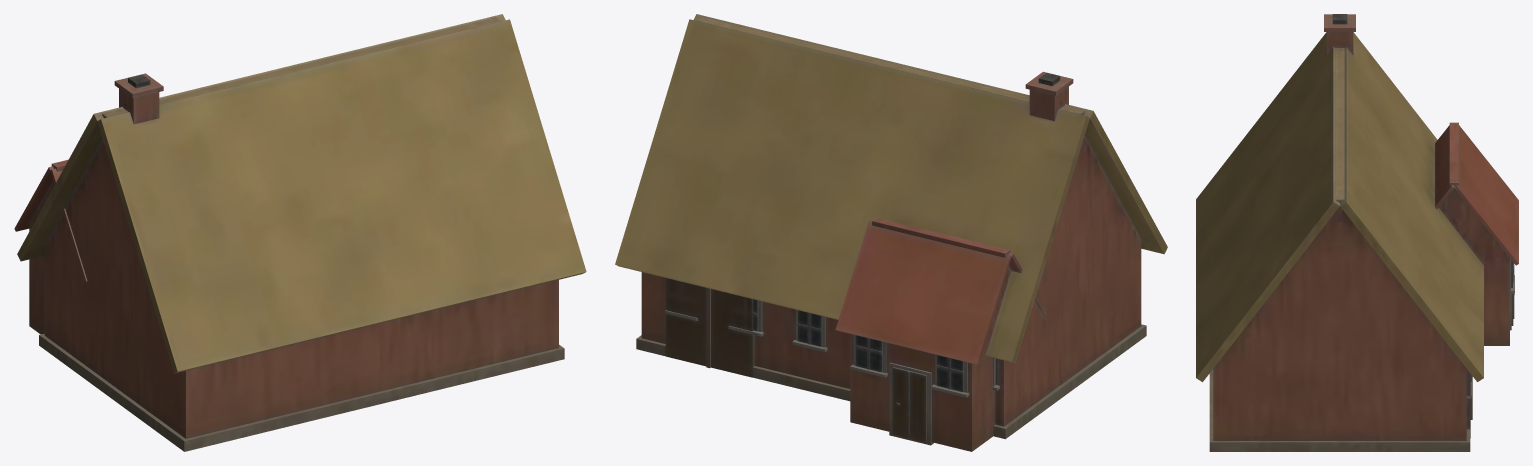
Rendered from farmhouse_dutch_baked.glb.
3 renders of one model, left to right at view 1: azimuth 30°, elevation 25°; view 2: azimuth 150°, elevation 25°; view 3: azimuth 270°, elevation 25°, orthographic. The views are drawn at different scales.
Parts seen in each view (by area): view 1: farmhouse_dutch; view 2: farmhouse_dutch; view 3: farmhouse_dutch.
Boxes of the visible parts, x1,y1,x2,y2 form: farmhouse_dutch: (14, 14, 586, 451); farmhouse_dutch: (615, 14, 1167, 451); farmhouse_dutch: (1196, 14, 1518, 451).
Size of the model in its own units: 13.7 by 10.11 by 10.45.
Materials: 1 (1 with a texture image).
